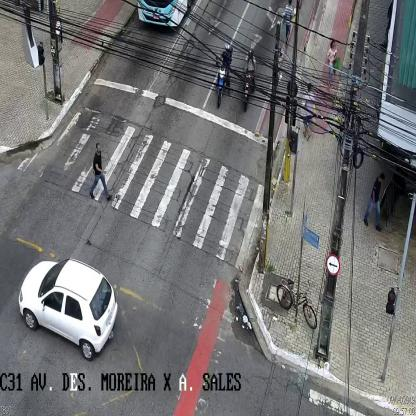car: (16, 258, 118, 363)
motorbike: (214, 44, 232, 111), (242, 49, 258, 110)
person: (89, 142, 112, 202), (364, 172, 382, 232), (303, 83, 314, 142), (327, 38, 338, 89)
